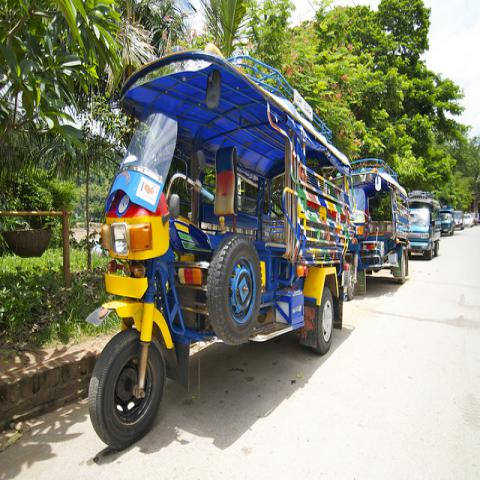bus: (406, 190, 440, 260)
car: (452, 210, 464, 230), (463, 214, 475, 228)
truck: (84, 53, 350, 446), (345, 158, 410, 299), (407, 189, 442, 260), (441, 207, 455, 236)
